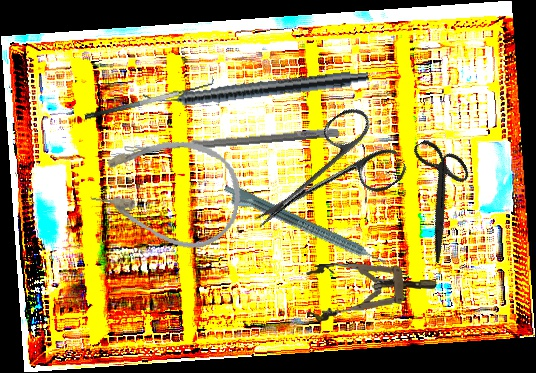Cannula: (84, 123, 250, 258)
Handpiece: (218, 181, 389, 276), (142, 64, 370, 113)
Iris Scissors: (233, 99, 411, 262), (377, 129, 502, 264)
Spatula Surgical: (81, 73, 217, 121)
Speculum: (303, 256, 438, 323)
Surgical Spoon: (123, 126, 340, 156)
